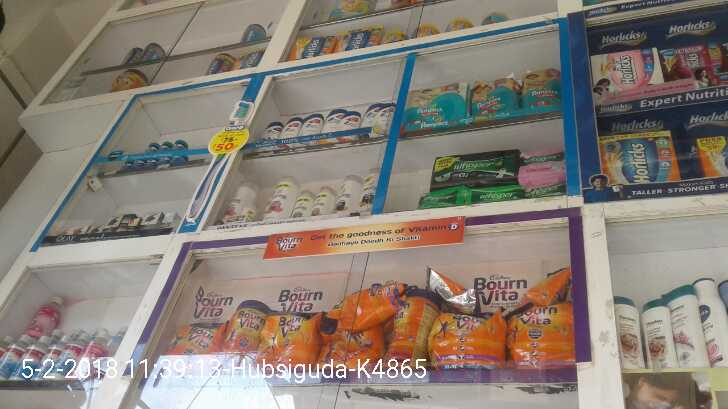vicks: (147, 137, 195, 157)
